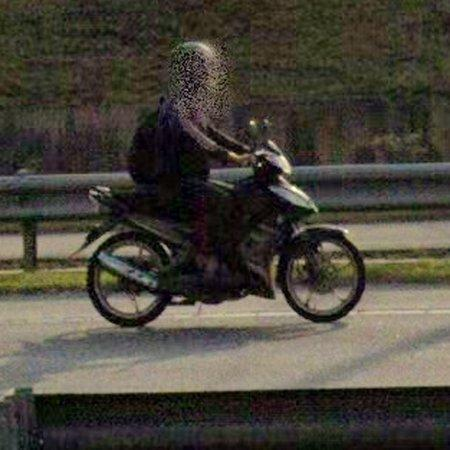motorcycles: (83, 42, 366, 327)
